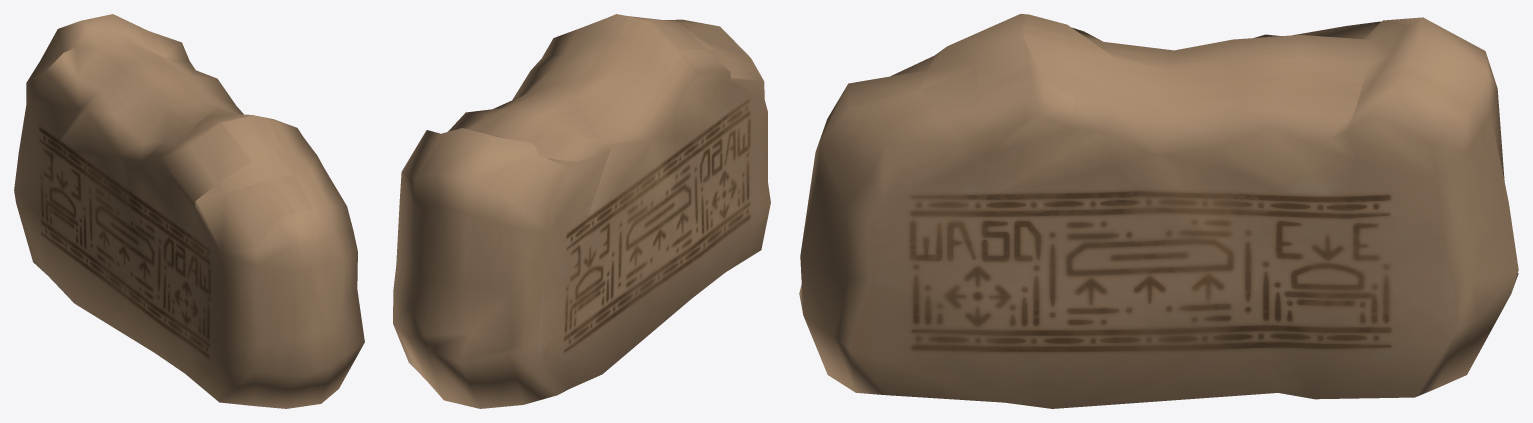
The model's file is InstructionalJeroglyph.fbx.
3 views of the same model, side by side, from view 1: azimuth 30°, elevation 25°; view 2: azimuth 150°, elevation 25°; view 3: azimuth 270°, elevation 25° (orthographic). The views are drawn at different scales.
Visible parts, largest first — view 1: Cube; view 2: Cube; view 3: Cube.
Part boxes in pixels (left/top/right/bottom): Cube: left=14, top=14, right=364, bottom=408; Cube: left=393, top=14, right=770, bottom=408; Cube: left=799, top=14, right=1518, bottom=408.
Bounding box in the file's own units: 238 × 393 × 749.
1 material, 1 textured.
